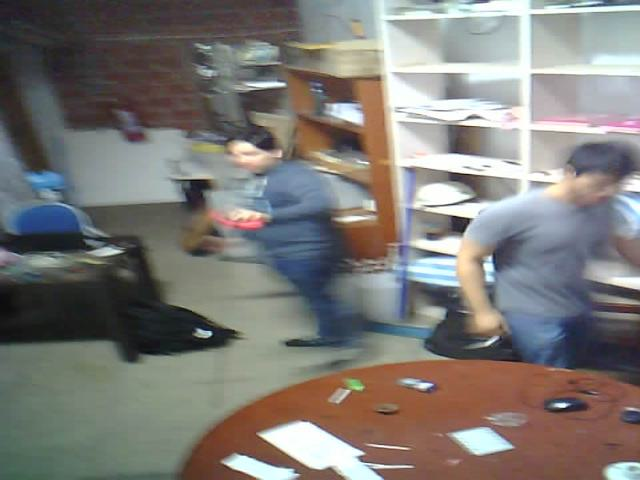person: (182, 97, 371, 369), (451, 127, 640, 397)
